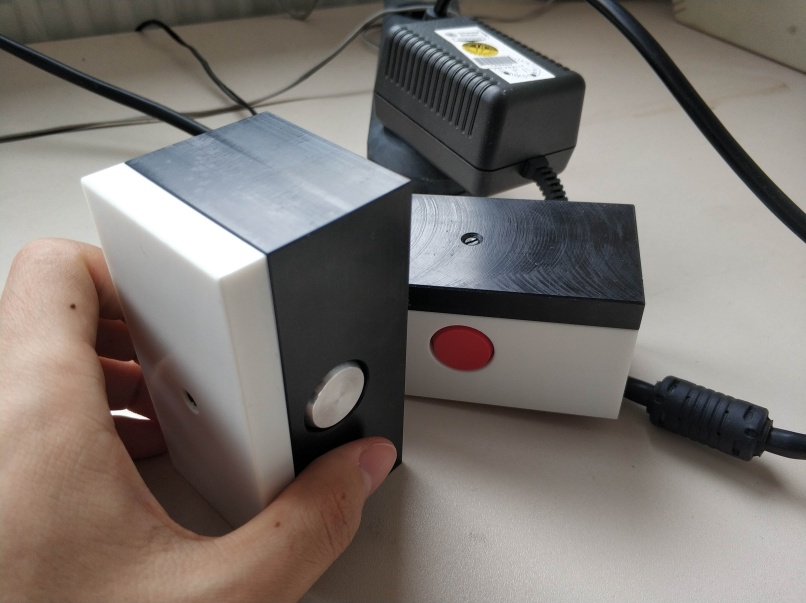black+white+red: (405, 192, 647, 424)
white+black+silver: (77, 109, 414, 532)
